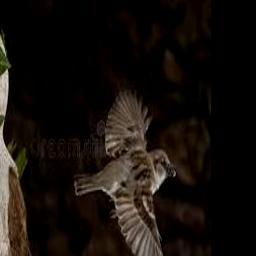Sparrow: (73, 88, 182, 256)
